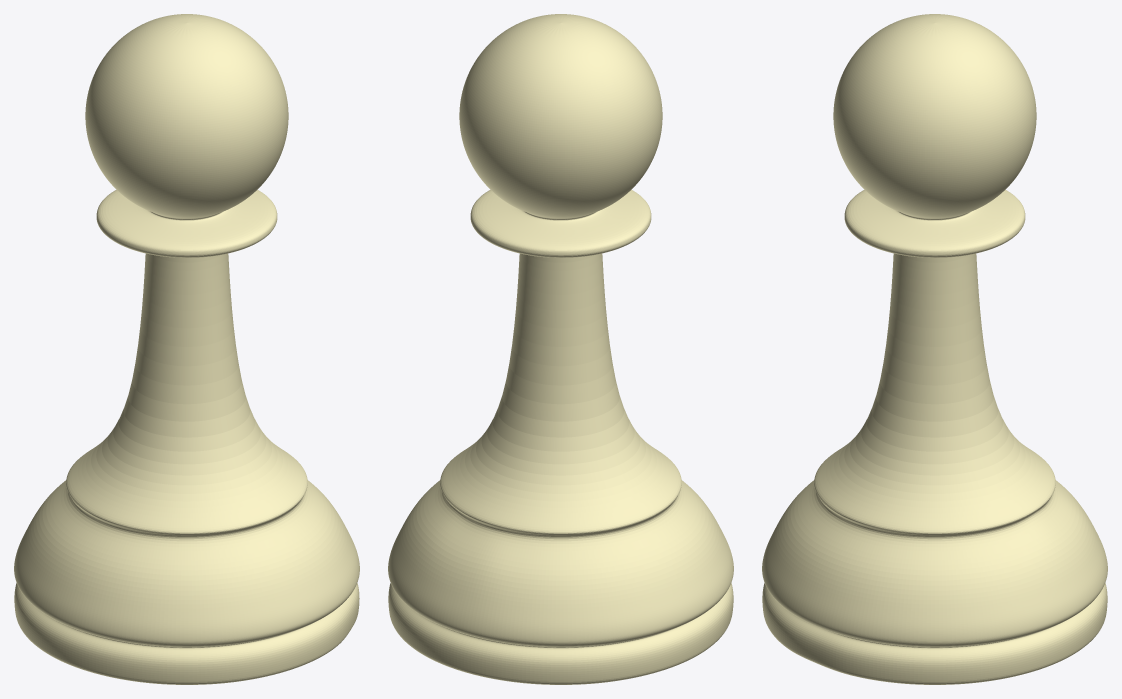
File: Pawn.fbx
3 renders of one model, left to right at view 1: azimuth 30°, elevation 25°; view 2: azimuth 150°, elevation 25°; view 3: azimuth 270°, elevation 25°, orthographic.
Visible parts, largest first — view 1: Pawn; view 2: Pawn; view 3: Pawn.
Boxes of the visible parts, x1,y1,x2,y2 form: Pawn: [14, 14, 359, 684]; Pawn: [388, 14, 733, 684]; Pawn: [762, 14, 1107, 684].
Size of the model in its own units: 275 by 522 by 275.
